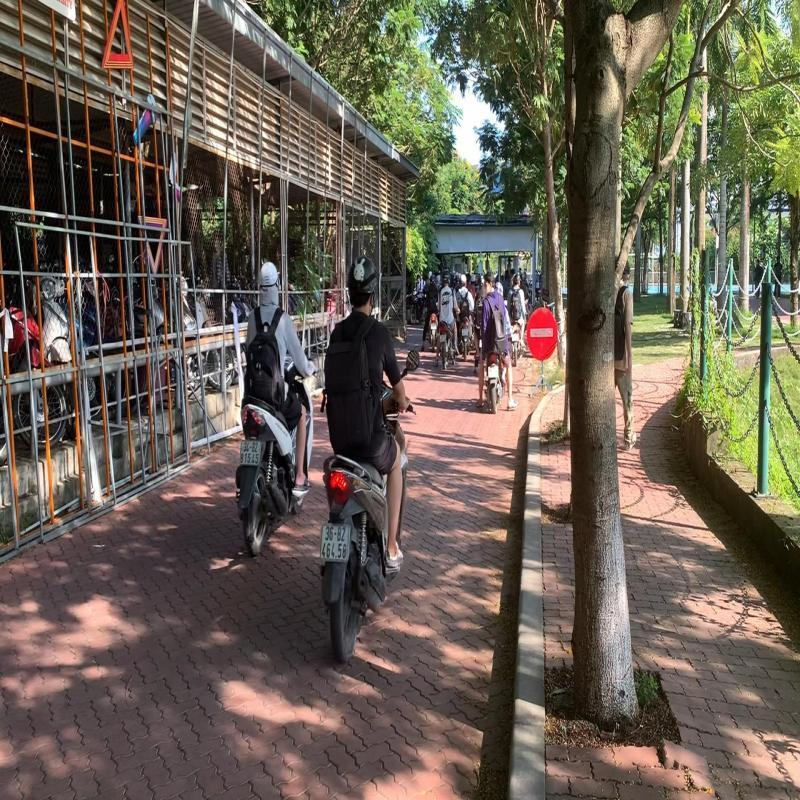helmet: (346, 254, 380, 316), (260, 260, 280, 291)
licenseplate: (319, 522, 352, 562), (239, 438, 262, 468)
motorcyclist: (318, 253, 411, 663), (236, 260, 317, 558)
nohelmet: (482, 270, 496, 294)
